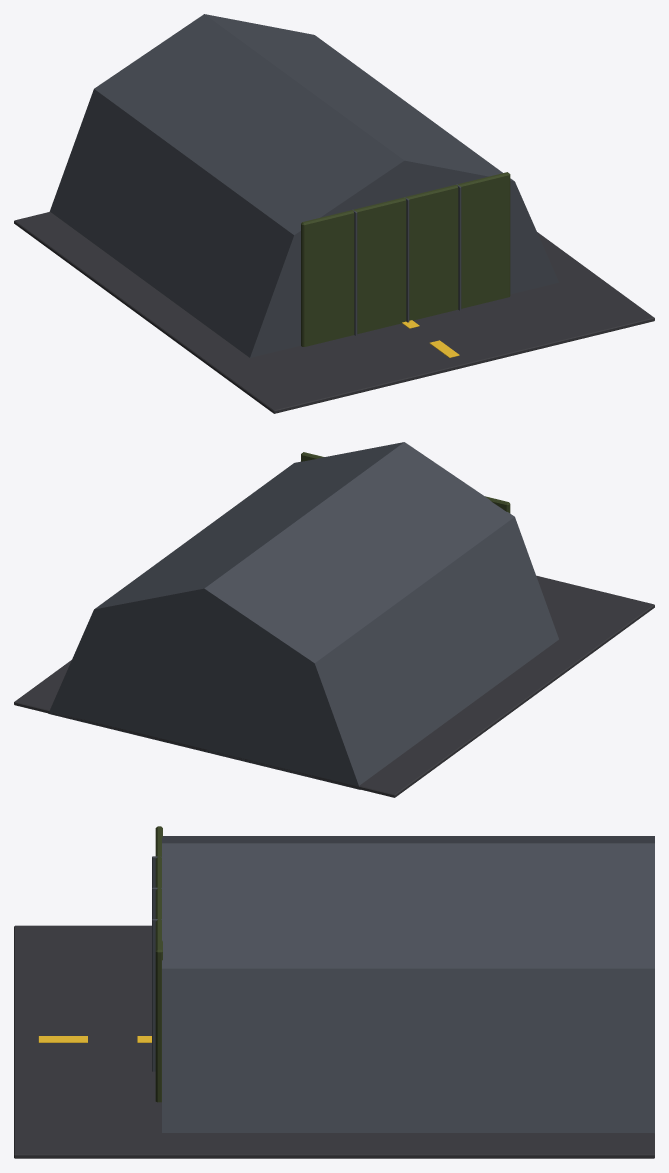
The model's file is Hangar.fbx.
3 views of the same model, one above another, from view 1: azimuth 30°, elevation 25°; view 2: azimuth 150°, elevation 25°; view 3: azimuth 270°, elevation 25° (orthographic). The views are drawn at different scales.
Parts seen in each view (by area): view 1: Hangar; view 2: Hangar; view 3: Hangar.
Boxes of the visible parts, left/top/right/bottom form: Hangar: left=14, top=14, right=654, bottom=413; Hangar: left=14, top=442, right=654, bottom=797; Hangar: left=14, top=826, right=654, bottom=1158.
Size of the model in its own units: 22 by 9 by 26.
1 material, 1 textured.
